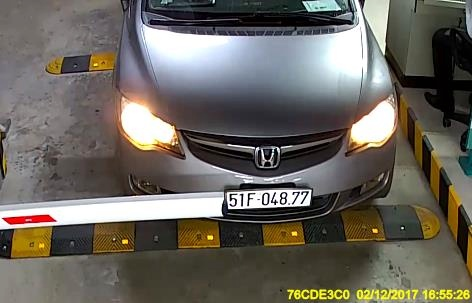plate: (225, 186, 314, 212)
